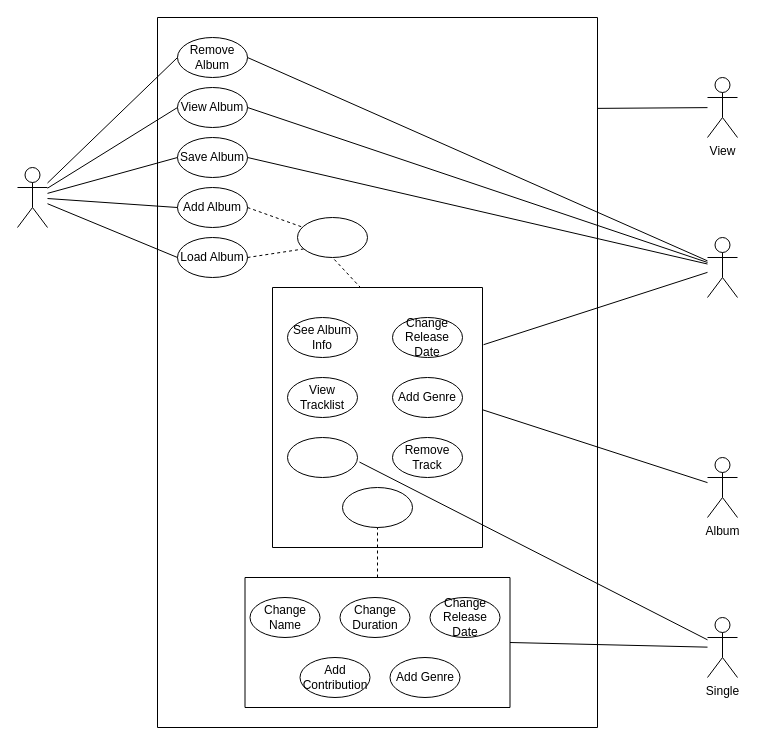
Some shapes in this 757 by 745 pixel diagram are drawn without their labels. Here are the shapes that lost their labels. From the top down, the box of each, then its label:
(16, 166, 48, 228): User
(296, 216, 368, 258): Edit Album
(706, 236, 738, 298): Menu
(286, 436, 358, 478): Add Track
(342, 486, 412, 528): Edit Track
